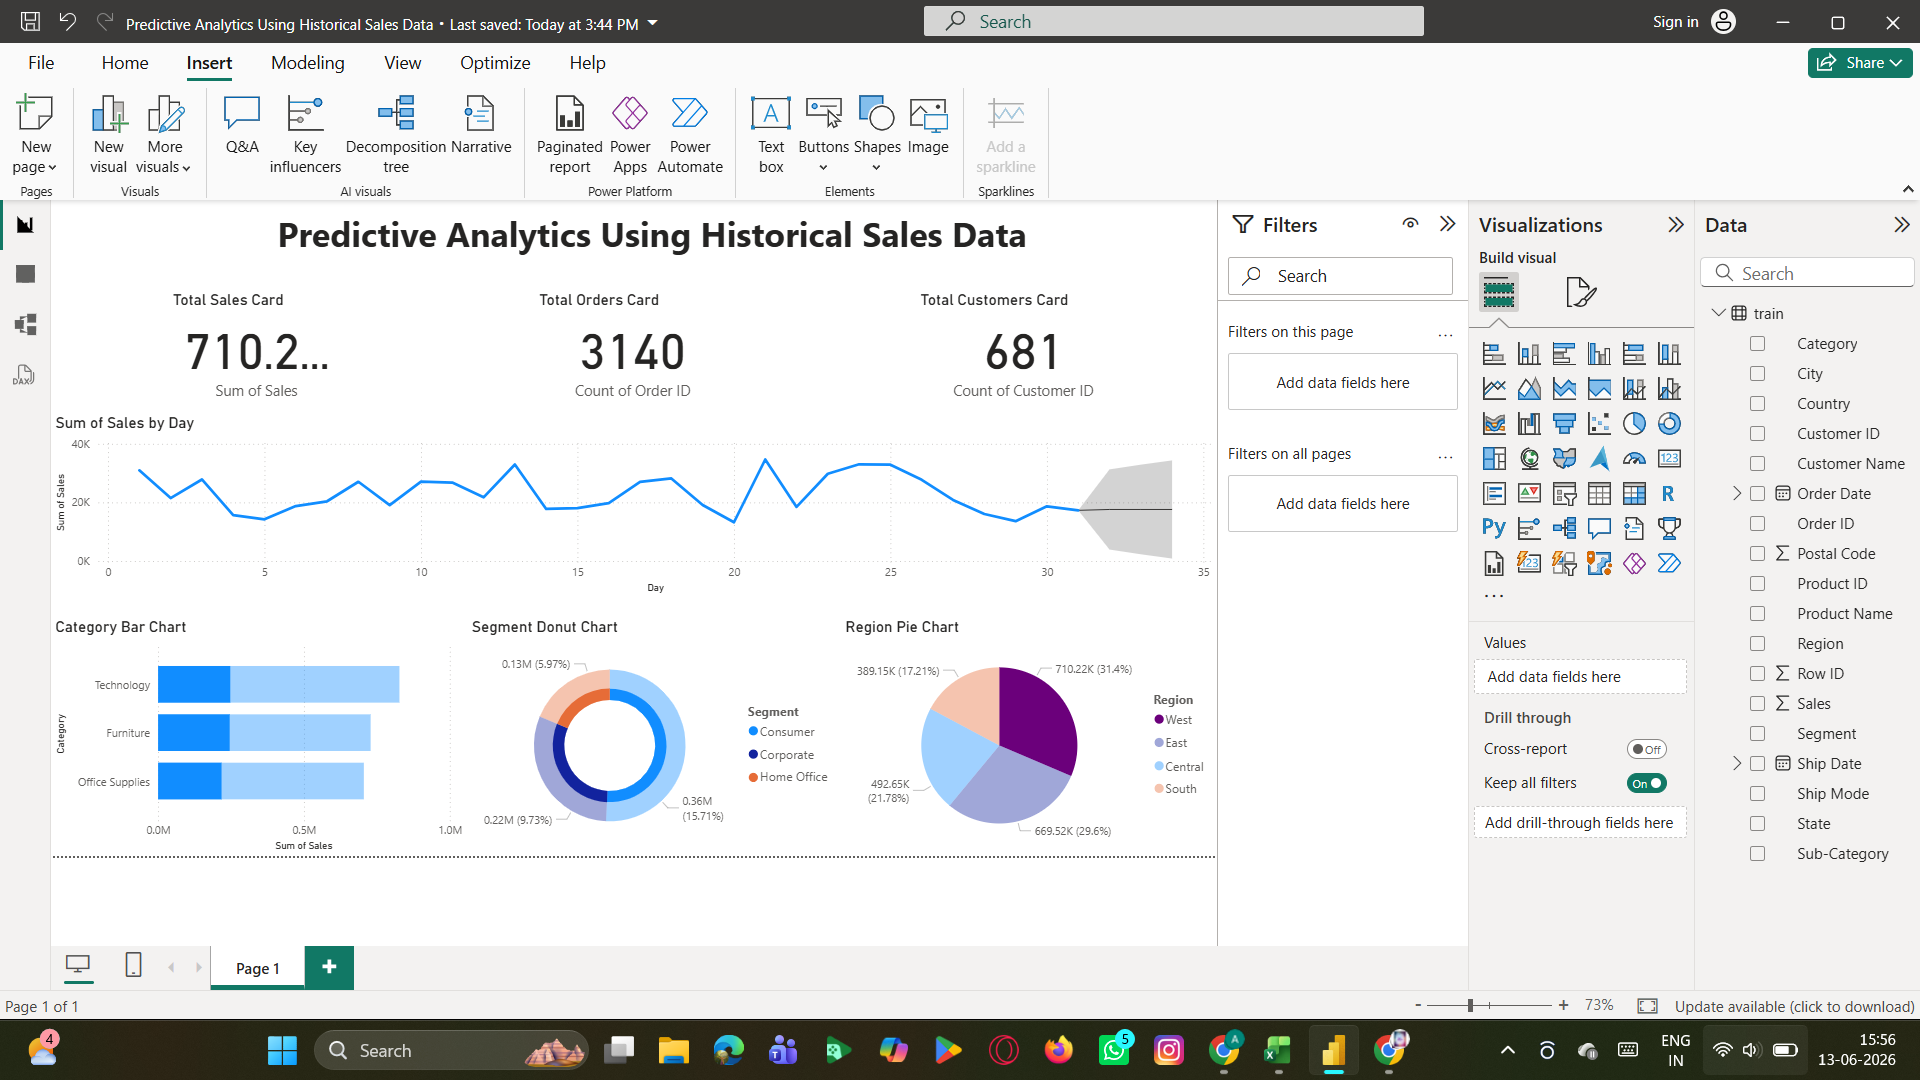

The page's visual inventory and layout, read from the dashboard file:
{"tool":"powerbi","page":{"name":"Page 1","canvas":[1280,720],"ordinal":0},"visuals":[{"type":"lineChart","title":"Sales Forecast Trend","fields":{"Y":["Sum(train.Sales)"],"Category":["train.Order Date.Variation.Date Hierarchy.Year","train.Order Date.Variation.Date Hierarchy.Quarter","train.Order Date.Variation.Date Hierarchy.Month","train.Order Date.Variation.Date Hierarchy.Day"]},"box":[0,234.6,1280.3,201.7],"z":0},{"type":"card","title":"Total Sales Card","fields":{"Values":["Sum(train.Sales)"]},"box":[129,98.8,193.5,123.5],"z":1},{"type":"card","title":"Total Customers Card","fields":{"Values":["Count(train.Customer ID)"]},"box":[949.6,98.8,236,123.5],"z":2},{"type":"card","title":"Total Orders Card","fields":{"Values":["CountNonNull(train.Order ID)"]},"box":[531,98.8,215.4,123.5],"z":3},{"type":"clusteredBarChart","title":"Category Bar Chart","fields":{"Category":["train.Category"],"Y":["Sum(train.Sales)"]},"box":[0,458.3,456.9,262.1],"z":4},{"type":"pieChart","title":"Region Pie Chart","fields":{"Category":["train.Region"],"Y":["Sum(train.Sales)"]},"box":[867.2,458.3,413,262.1],"z":5},{"type":"donutChart","title":"Segment Donut Chart","fields":{"Category":["train.Segment"],"Y":["Sum(train.Sales)"]},"box":[456.9,458.3,410.3,262.1],"z":6},{"type":"textbox","box":[0,0,1280.3,89.2],"z":7}]}

Visuals, with their boxes on the page's 1280x720 design canvas (x1, y1, x2, y2). These are canvas units, not pixel positions in the 1920x1080 screenshot, which may show the page scaled, cropped or inside an application window:
"Sales Forecast Trend" lineChart: [0,235,1280,436]
"Total Sales Card" card: [129,99,322,222]
"Total Customers Card" card: [950,99,1186,222]
"Total Orders Card" card: [531,99,746,222]
"Category Bar Chart" clusteredBarChart: [0,458,457,720]
"Region Pie Chart" pieChart: [867,458,1280,720]
"Segment Donut Chart" donutChart: [457,458,867,720]
textbox: [0,0,1280,89]
